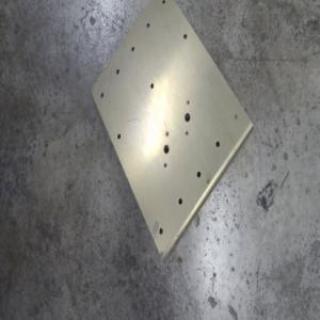MetalSheettrack_idkeyframe: (88, 0, 254, 266)
